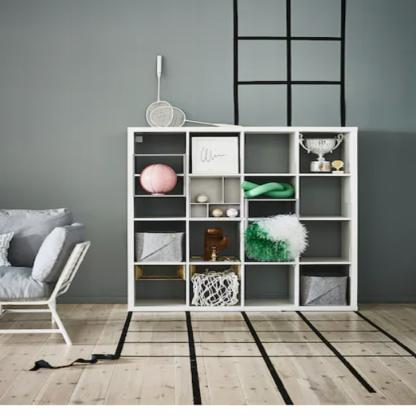lamp: (124, 126, 359, 313)
